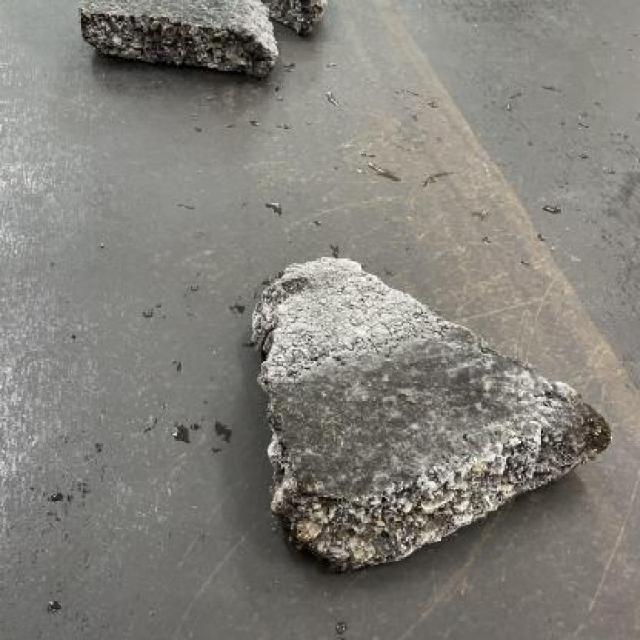Road Debris: (272, 356, 560, 509), (98, 6, 274, 39)
